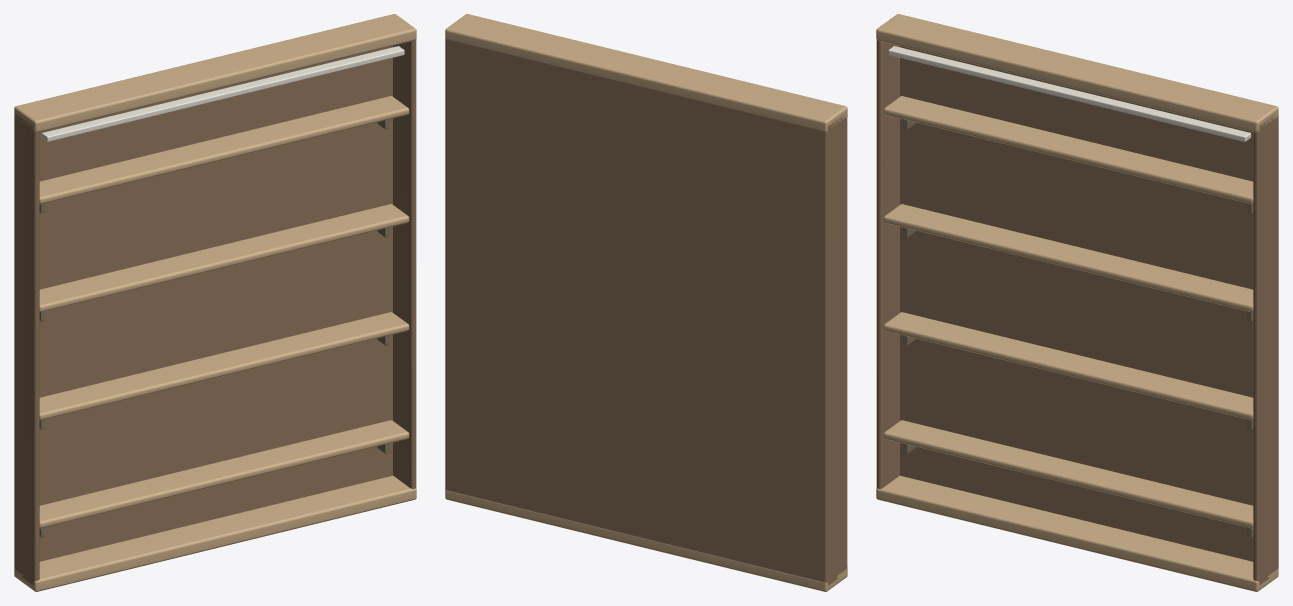
File: wall_beauty.glb
3 renders of one model, left to right at view 1: azimuth 30°, elevation 25°; view 2: azimuth 150°, elevation 25°; view 3: azimuth 330°, elevation 25°, orthographic.
Parts seen in each view (by area): view 1: Closed back, seated against existing opaque boundary, Bottom / crown.001, Outer stile, Bottom / crown, Outer stile.001, Load-bearing shelf.002, Load-bearing shelf, Load-bearing shelf.001, Load-bearing shelf.003, Integrated light diffuser; view 2: Closed back, seated against existing opaque boundary, Bottom / crown.001, Outer stile, Bottom / crown; view 3: Closed back, seated against existing opaque boundary, Bottom / crown.001, Outer stile.001, Bottom / crown, Outer stile, Load-bearing shelf, Load-bearing shelf.002, Load-bearing shelf.001, Load-bearing shelf.003, Integrated light diffuser.
Boxes of the visible parts, left/top/right/bottom form: Closed back, seated against existing opaque boundary: left=14, top=46, right=392, bottom=568; Bottom / crown.001: left=14, top=14, right=416, bottom=132; Outer stile: left=15, top=113, right=39, bottom=584; Bottom / crown: left=14, top=475, right=416, bottom=591; Outer stile.001: left=393, top=40, right=416, bottom=488; Load-bearing shelf.002: left=39, top=204, right=409, bottom=312; Load-bearing shelf: left=39, top=420, right=409, bottom=528; Load-bearing shelf.001: left=39, top=312, right=409, bottom=420; Load-bearing shelf.003: left=39, top=96, right=409, bottom=204; Integrated light diffuser: left=41, top=46, right=404, bottom=141; Closed back, seated against existing opaque boundary: left=445, top=39, right=828, bottom=585; Bottom / crown.001: left=445, top=14, right=847, bottom=131; Outer stile: left=828, top=115, right=847, bottom=584; Bottom / crown: left=445, top=490, right=847, bottom=591; Closed back, seated against existing opaque boundary: left=900, top=46, right=1278, bottom=568; Bottom / crown.001: left=876, top=14, right=1278, bottom=132; Outer stile.001: left=1253, top=115, right=1277, bottom=584; Bottom / crown: left=876, top=475, right=1278, bottom=591; Outer stile: left=876, top=40, right=899, bottom=488; Load-bearing shelf: left=883, top=420, right=1253, bottom=528; Load-bearing shelf.002: left=883, top=204, right=1253, bottom=312; Load-bearing shelf.001: left=883, top=312, right=1253, bottom=420; Load-bearing shelf.003: left=883, top=96, right=1253, bottom=204; Integrated light diffuser: left=888, top=46, right=1251, bottom=141.
Bounding box in the file's own units: 2 × 2.36 × 0.2.
